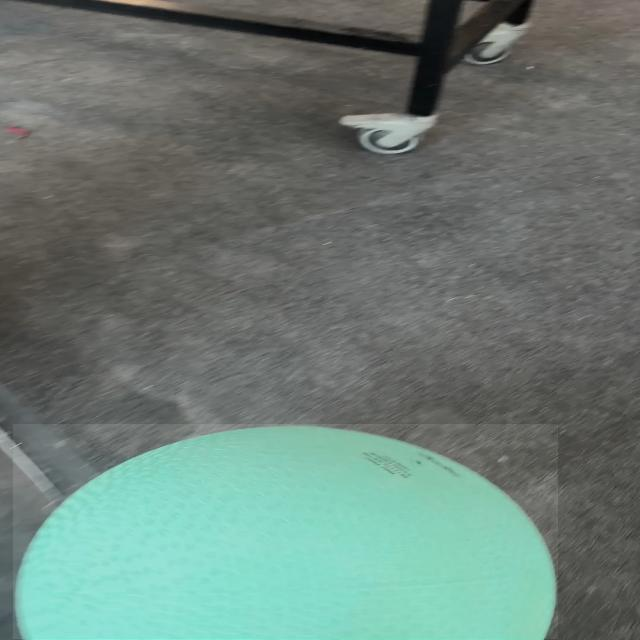Algae: (13, 424, 558, 639)
